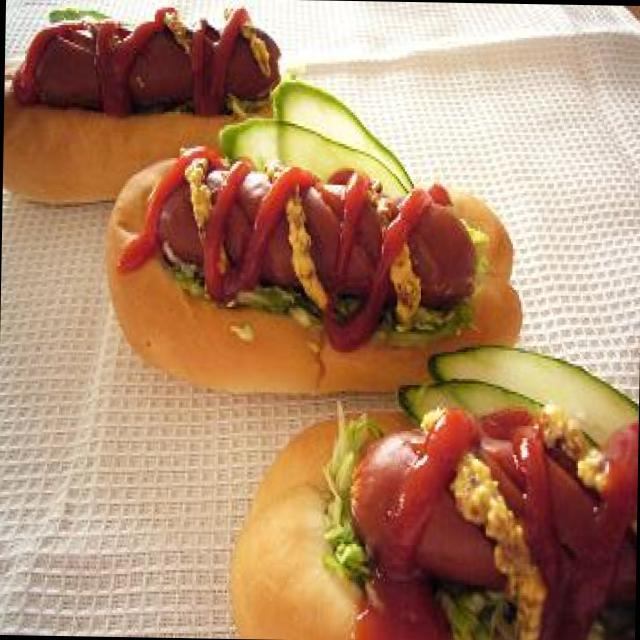Hot Dog: (98, 132, 542, 407)
